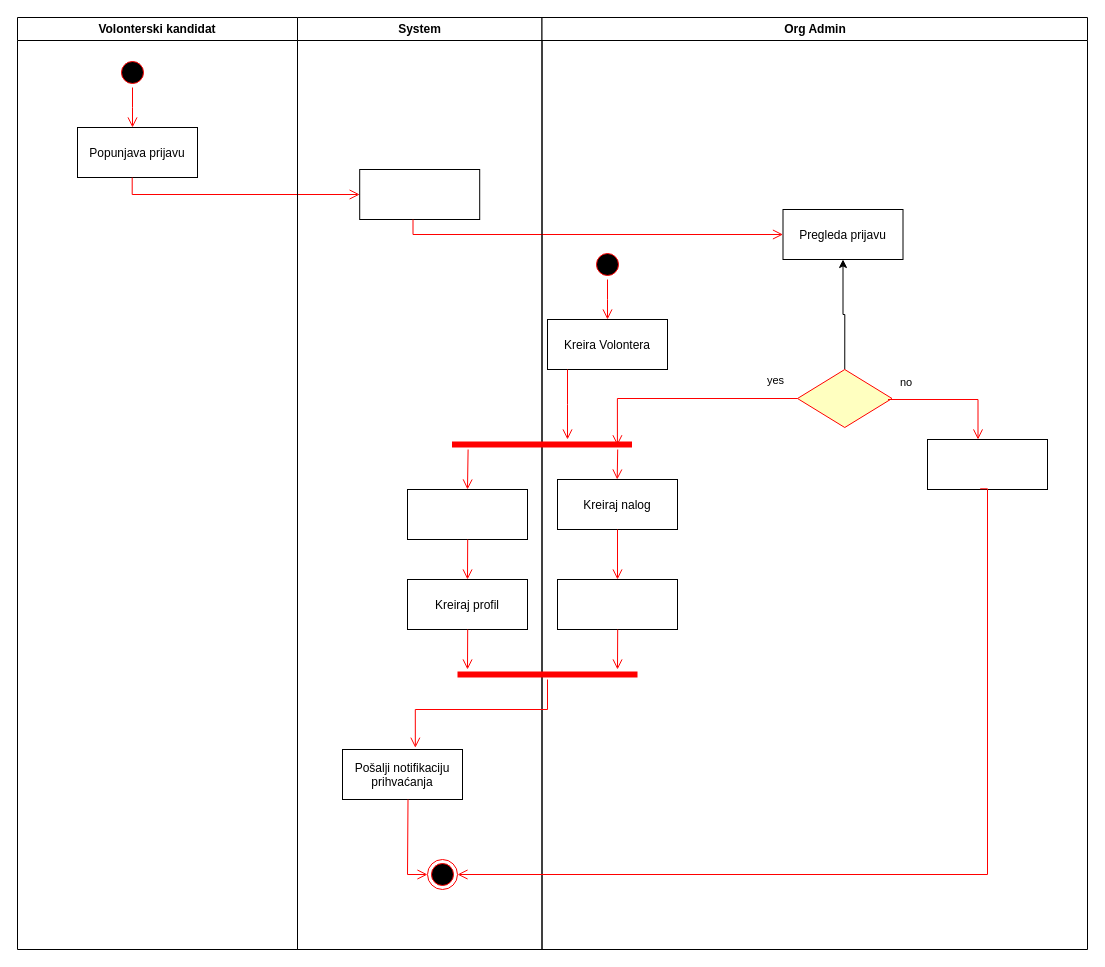
Image size: 1105x967. Some labels were removed from this diagram. The centre of each missing label's shape, as x and y in pixels:
"Aktiviraj nalog" goes at (x=617, y=604).
"Dodeli organizaciju" goes at (x=467, y=514).
"Pošalji notifikaciju odbijanja" goes at (x=987, y=464).
"Prijava Prihvaćena" goes at (x=844, y=398).
"Skladišti prijavu" goes at (x=419, y=194).
